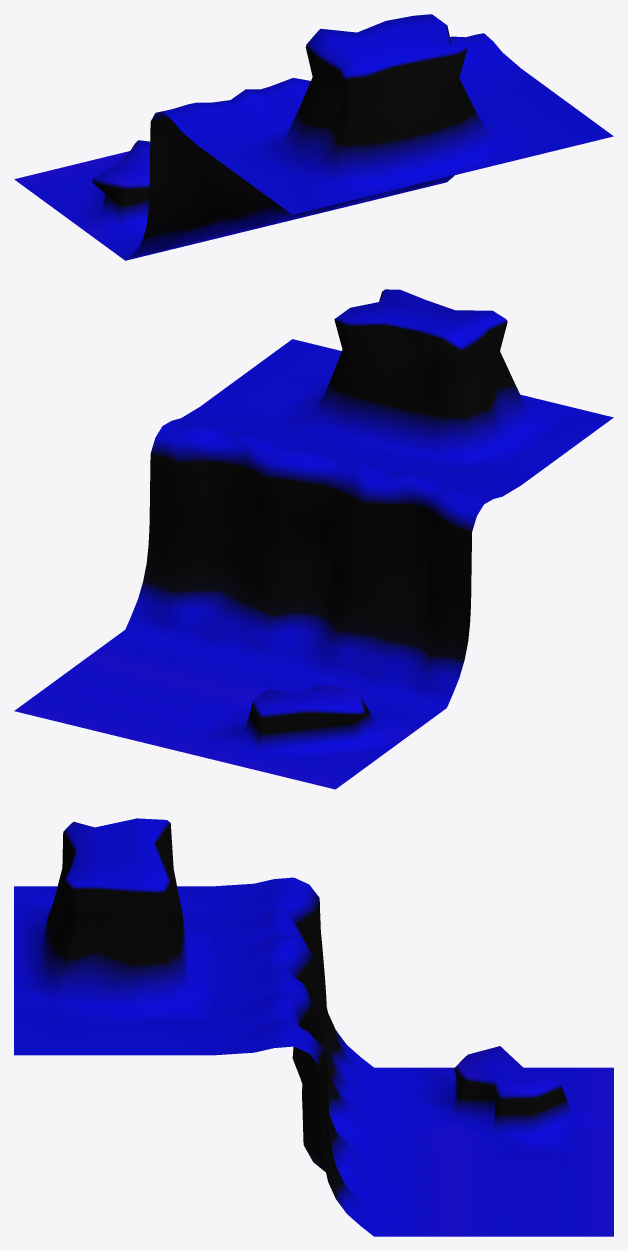
The model's file is WaterFallCliff02E 2M.fbx.
3 views of the same model, one above another, from view 1: azimuth 30°, elevation 25°; view 2: azimuth 150°, elevation 25°; view 3: azimuth 270°, elevation 25° (orthographic). The views are drawn at different scales.
Parts seen in each view (by area): view 1: WaterFallCliff02E 2M; view 2: WaterFallCliff02E 2M; view 3: WaterFallCliff02E 2M.
Part boxes in pixels (box(x1,y1,x2,y2)): WaterFallCliff02E 2M: box(14, 14, 613, 260); WaterFallCliff02E 2M: box(14, 289, 613, 789); WaterFallCliff02E 2M: box(14, 818, 613, 1236).
Bounding box in the file's own units: 2 × 1.66 × 3.
